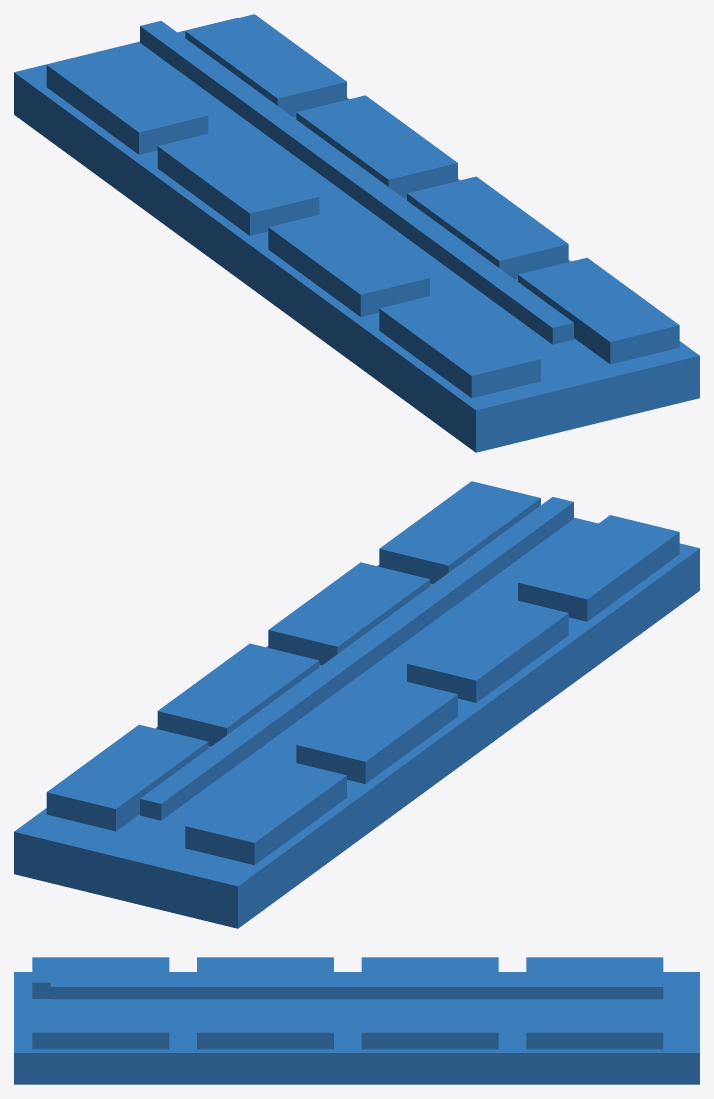
File: 09_low_energy_store.glb
3 renders of one model, top to bottom at view 1: azimuth 30°, elevation 25°; view 2: azimuth 150°, elevation 25°; view 3: azimuth 270°, elevation 25°, orthographic. The views are drawn at different scales.
Visible parts, largest first — view 1: Low energy store; view 2: Low energy store; view 3: Low energy store.
Part boxes in pixels (<box>): Low energy store: <box>14,14,699,452</box>; Low energy store: <box>14,481,699,928</box>; Low energy store: <box>14,957,699,1084</box>.
Size of the model in its own units: 0.021 by 0.00735 by 0.075.
